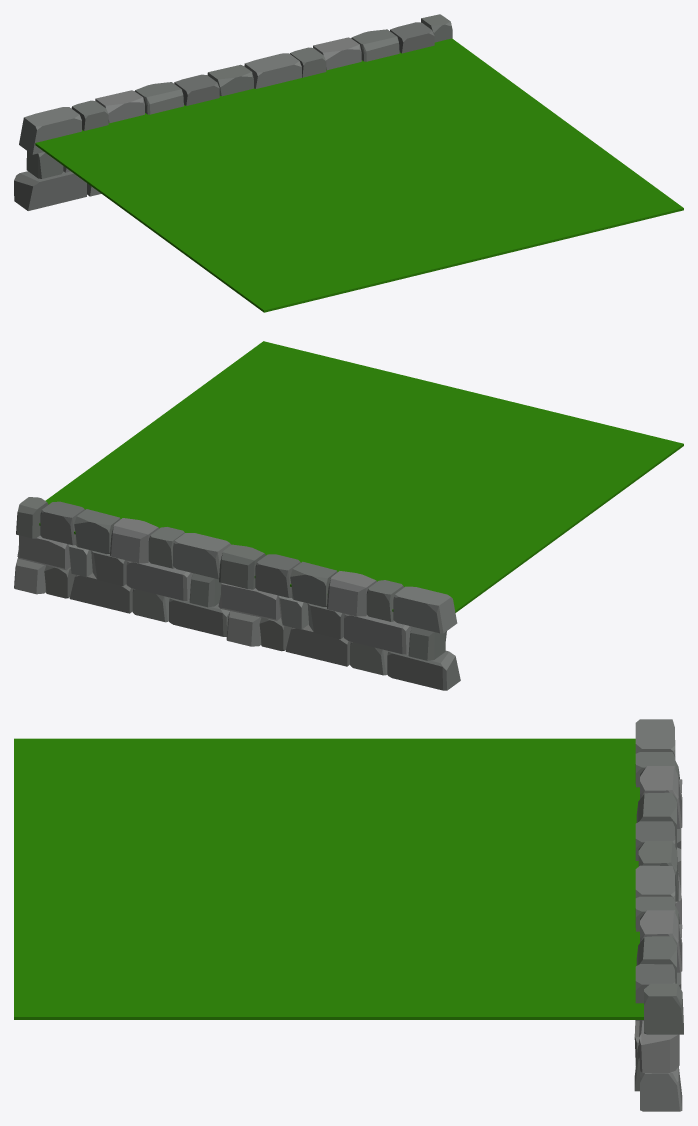
The model's file is Grass_Over_Stone_Wall.fbx.
The picture shows the model from 3 angles, top to bottom: view 1: azimuth 30°, elevation 25°; view 2: azimuth 150°, elevation 25°; view 3: azimuth 270°, elevation 25°; orthographic projection. The views are drawn at different scales.
Parts seen in each view (by area): view 1: Grass, Wall; view 2: Grass, Wall; view 3: Grass, Wall.
Boxes of the visible parts, x1,y1,x2,y2 form: Grass: (35,38,683,312); Wall: (14,14,452,210); Grass: (39,341,683,612); Wall: (14,497,460,690); Grass: (14,738,643,1019); Wall: (634,719,683,1111).
Size of the model in its own units: 20.52 by 3.82 by 20.35.
